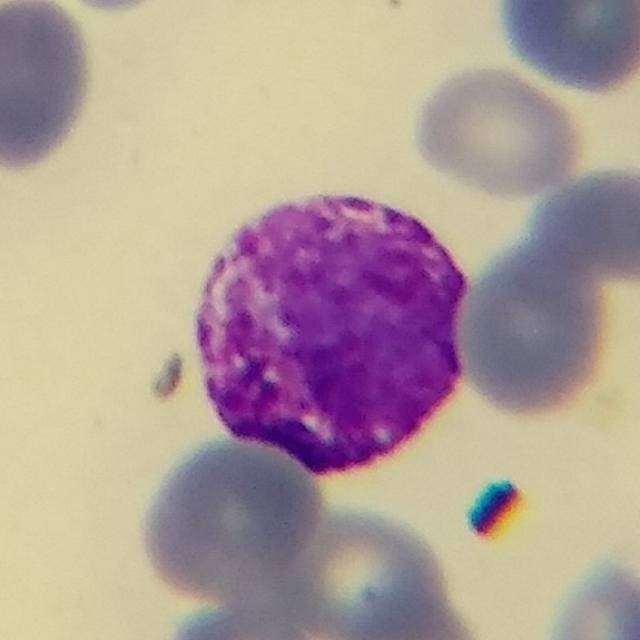baso: (187, 184, 480, 483)
